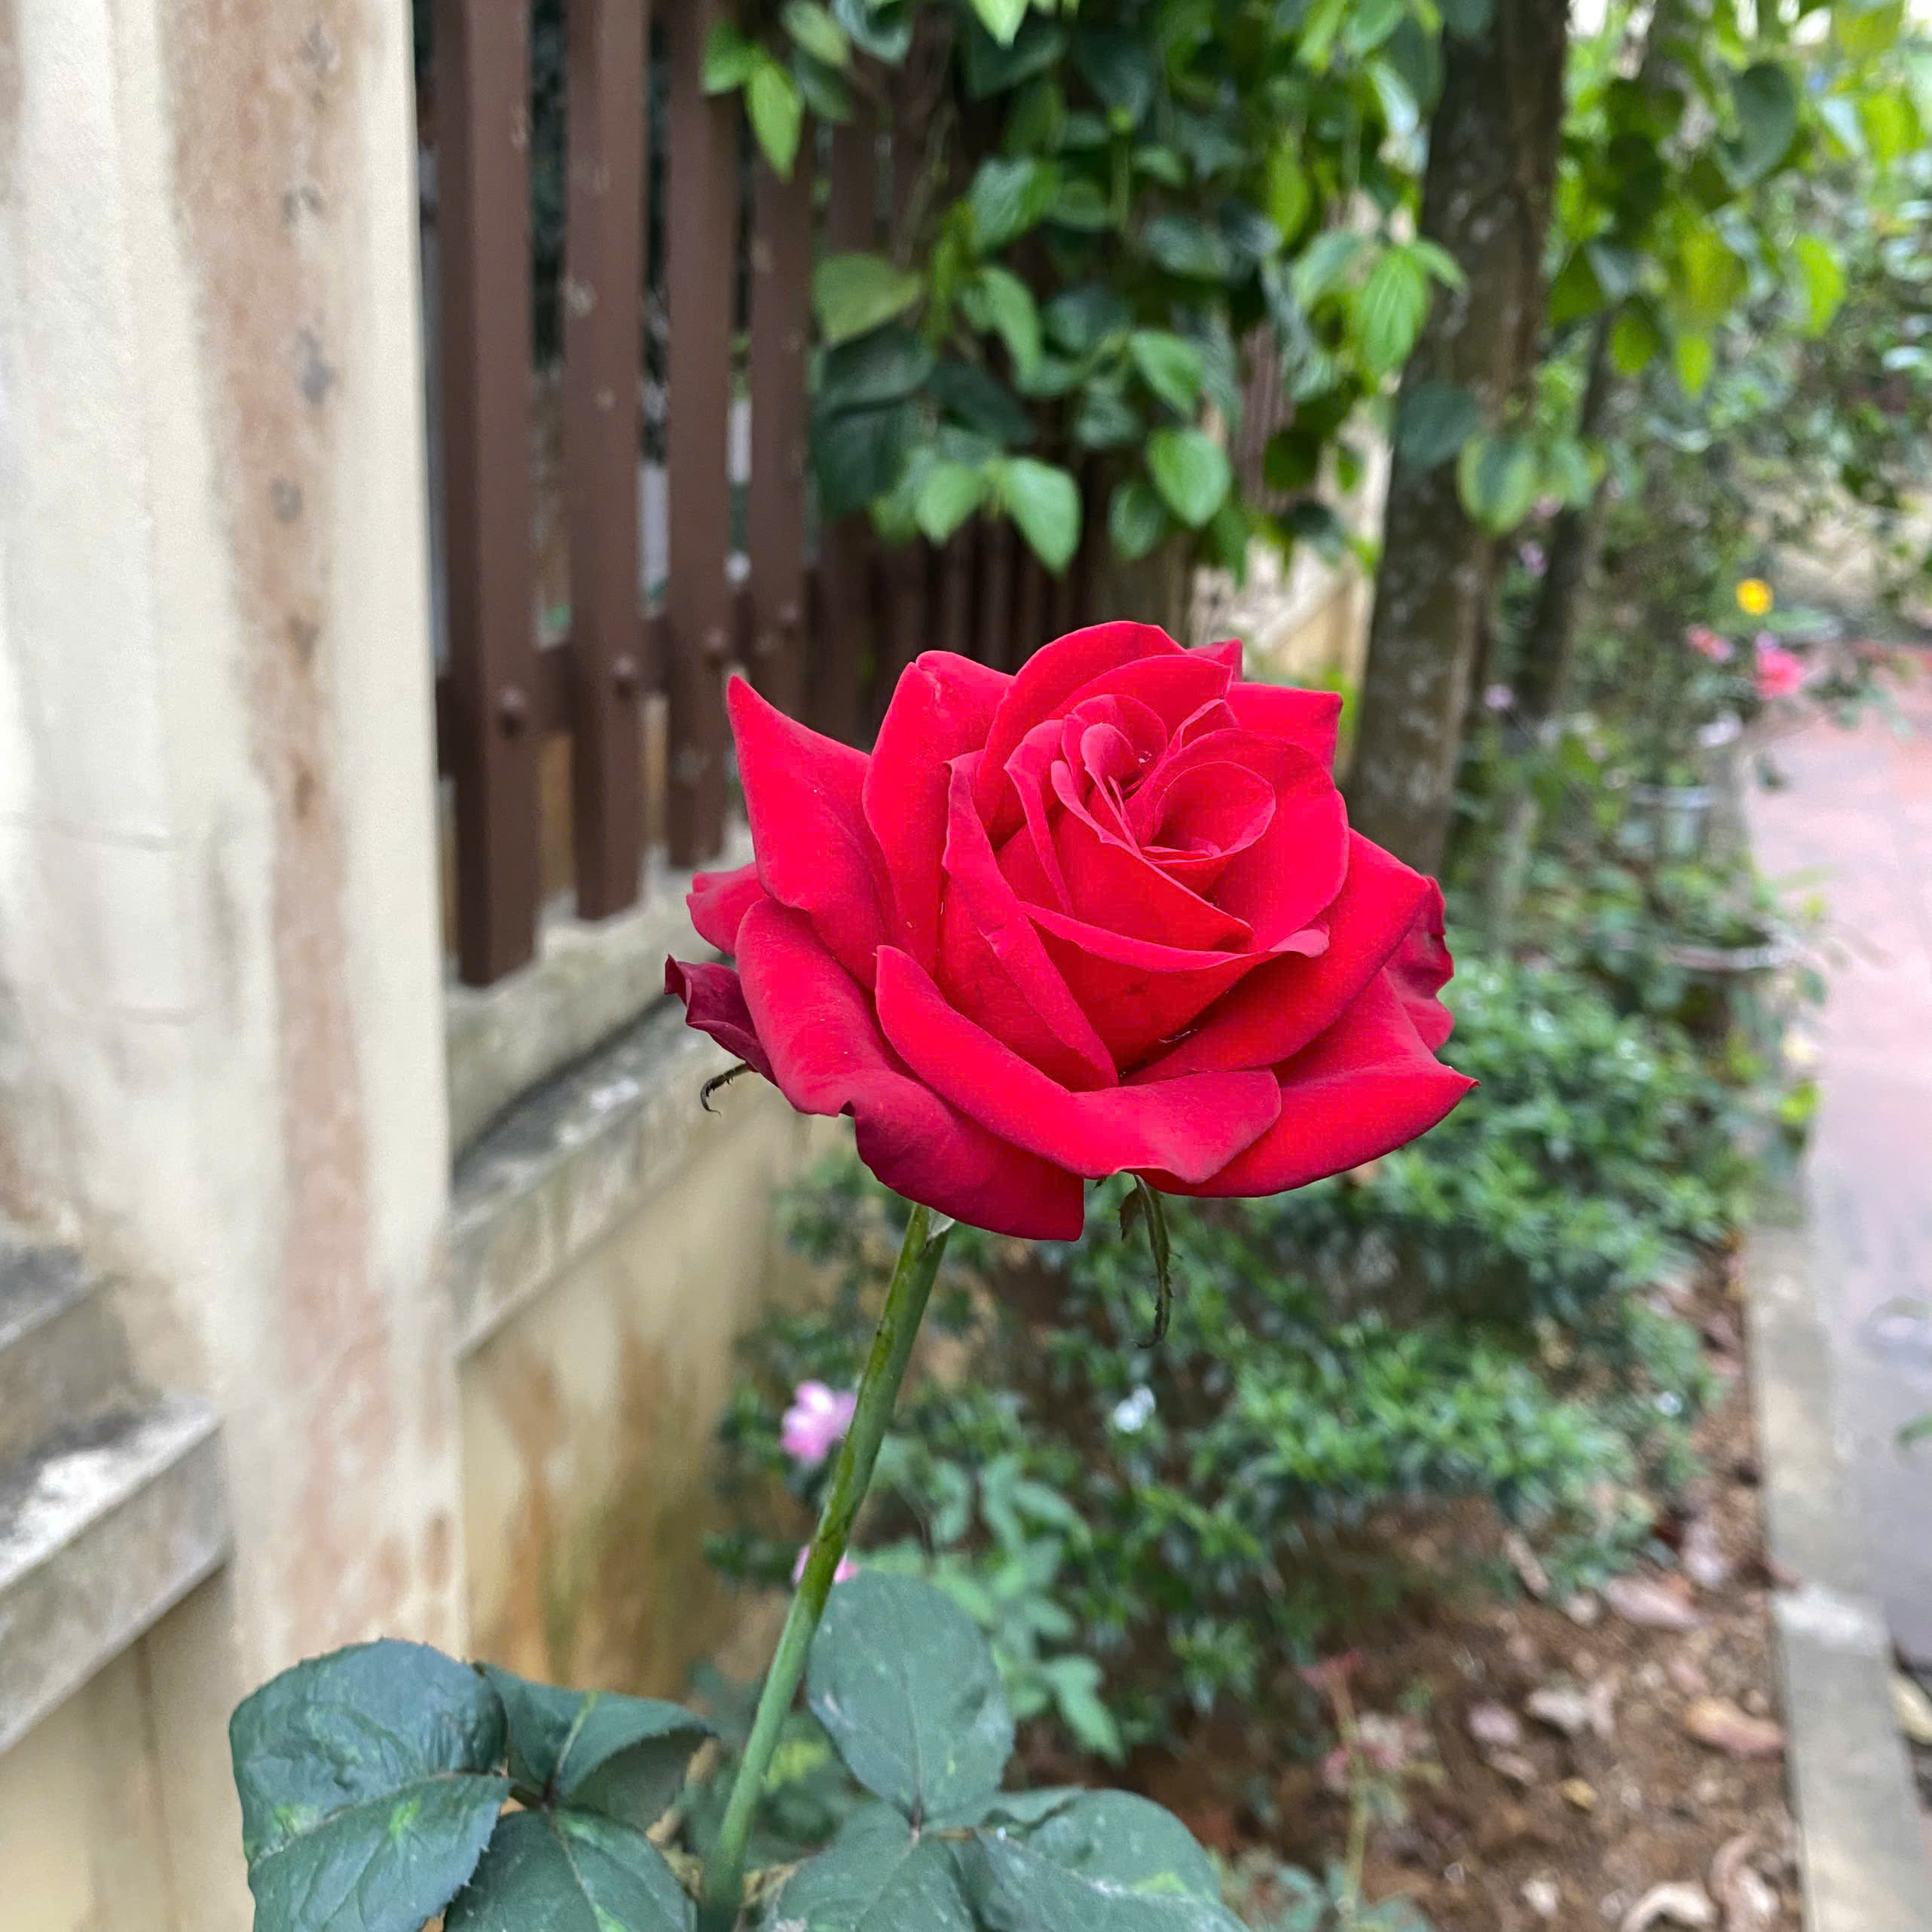hoa_hong_do: (172, 594, 1560, 1932)
